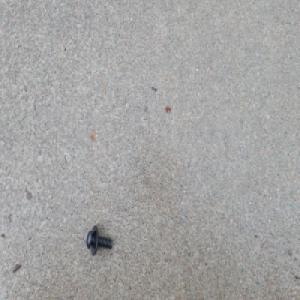BoltWasher: (86, 225, 113, 256)
